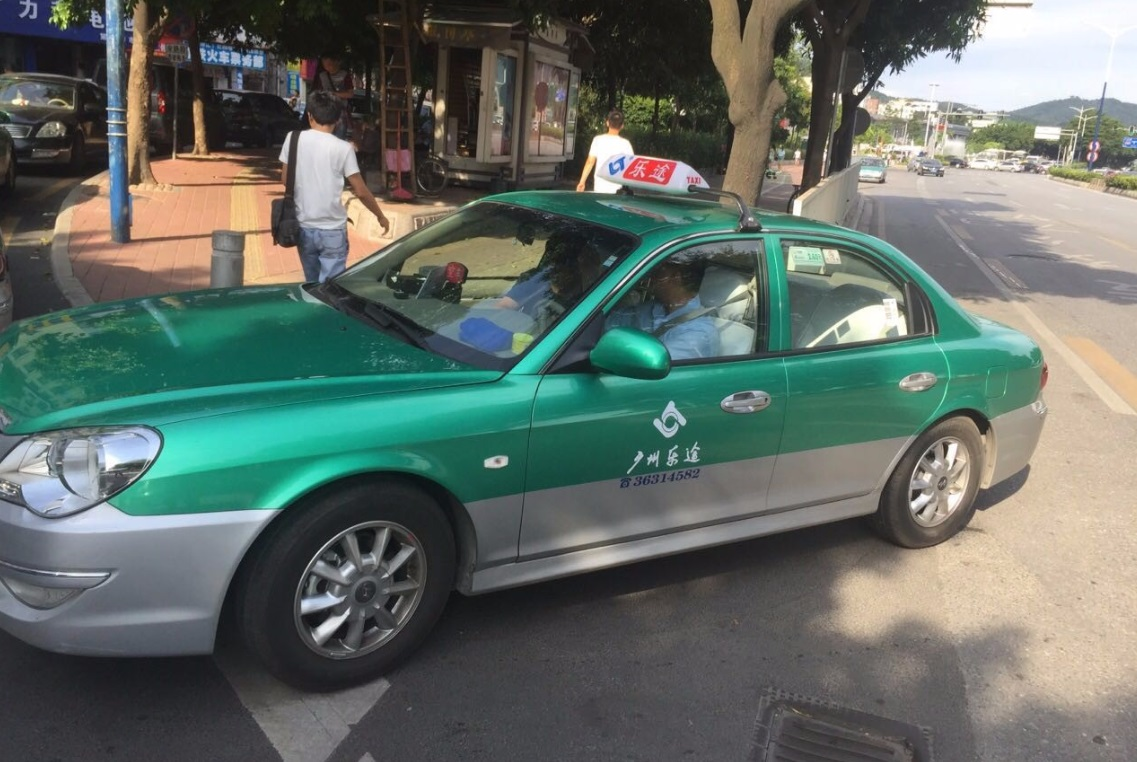taxi: (1, 149, 1054, 703)
